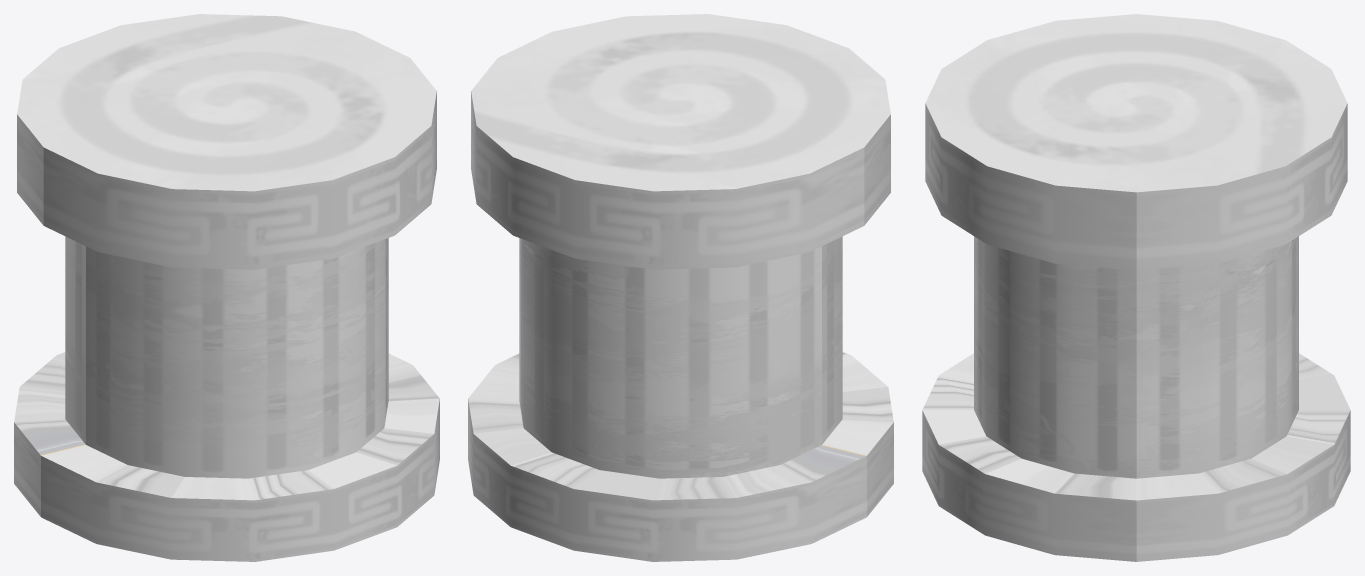
The model's file is GreekPodium.fbx.
3 views of the same model, side by side, from view 1: azimuth 30°, elevation 25°; view 2: azimuth 150°, elevation 25°; view 3: azimuth 270°, elevation 25° (orthographic).
Visible parts, largest first — view 1: Cylinder.004; view 2: Cylinder.004; view 3: Cylinder.004.
Part boxes in pixels (left/top/right/bottom): Cylinder.004: left=14, top=14, right=439, bottom=561; Cylinder.004: left=468, top=14, right=893, bottom=561; Cylinder.004: left=922, top=14, right=1350, bottom=561.
Size of the model in its own units: 761 by 722 by 761.
Materials: 1 (1 with a texture image).
